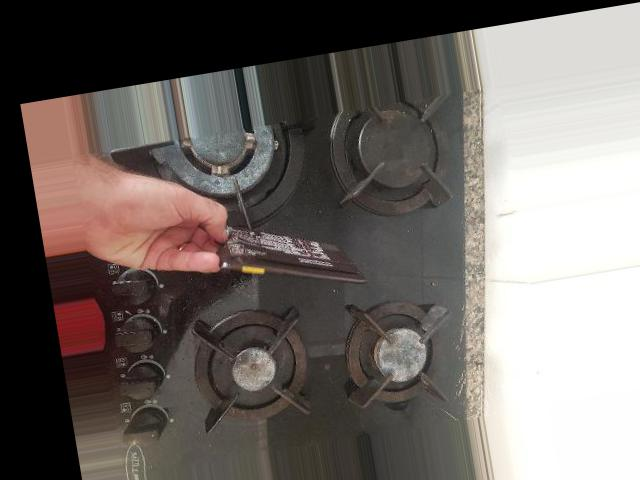chocolate: (199, 201, 367, 311)
